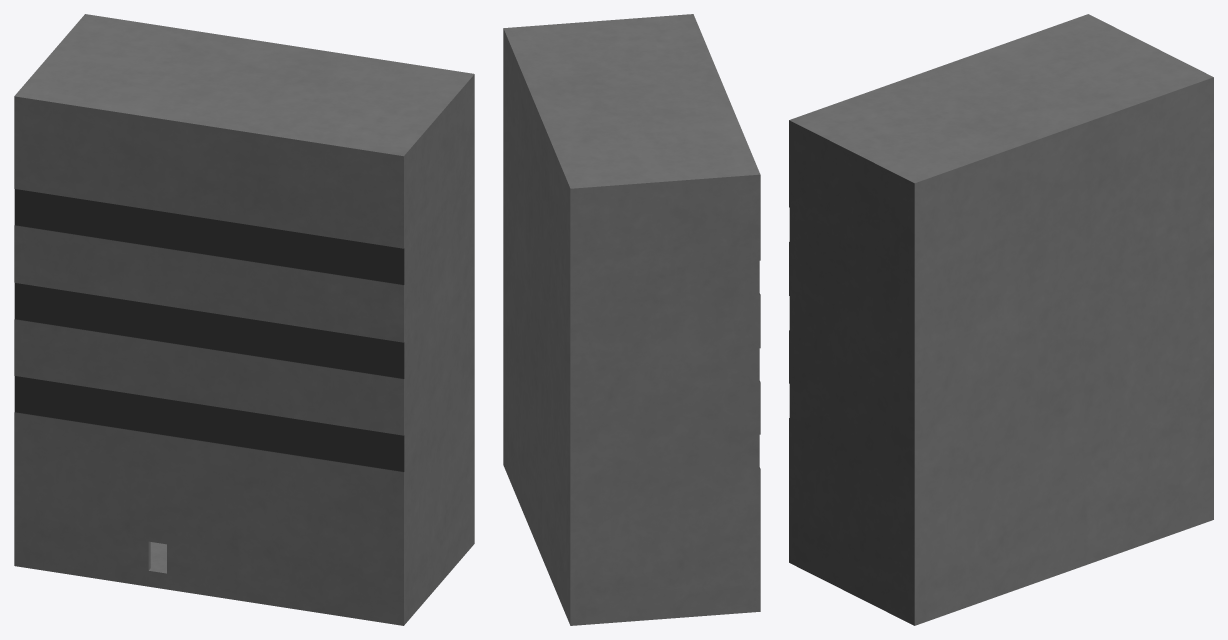
File: bookright.fbx
3 views of the same model, side by side, from view 1: azimuth 30°, elevation 25°; view 2: azimuth 150°, elevation 25°; view 3: azimuth 270°, elevation 25° (orthographic). The views are drawn at different scales.
Visible parts, largest first — view 1: Boolean5; view 2: Boolean5; view 3: Boolean5.
Part boxes in pixels (x1,y1,x2,y2): Boolean5: (14, 14, 474, 625); Boolean5: (503, 14, 760, 625); Boolean5: (789, 14, 1213, 625).
Size of the model in its own units: 4103 by 4350 by 5000.
Materials: 2 (1 with a texture image).
